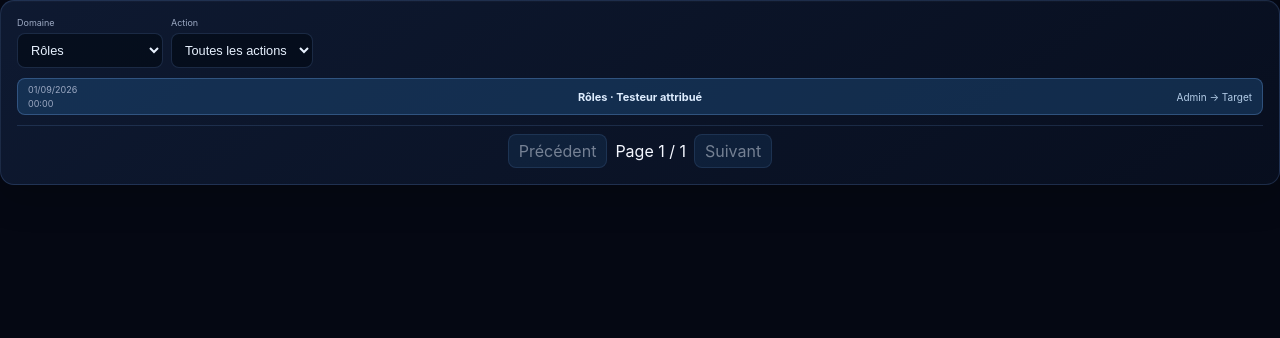
Test: Admin panel actions › filters the Journal and opens a read-only detail
Expected: the element named "Journal Admin" is shown, top-left (0, 0), bottom-right (1279, 185)
Select "Rôles" in the dropdown labelled "Domaine" at (90, 50), box top-left (17, 33), bottom-right (163, 68)
Click the button "01/09/2026 00:00 Rôles · Testeur attribué Admin → Target" at (640, 96), box top-left (17, 78), bottom-right (1263, 115)
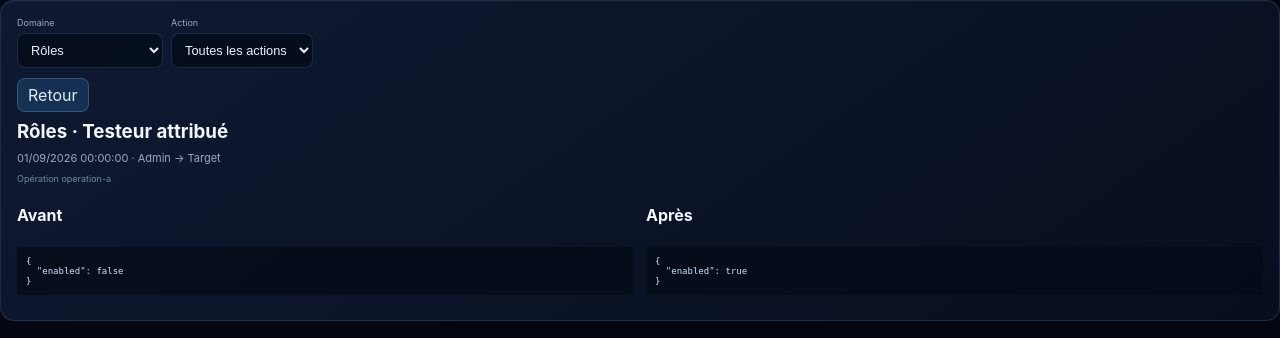
Expected: the heading "Rôles · Testeur attribué" is shown, top-left (17, 120), bottom-right (228, 143)
Result: the text "operation-a" is shown at top-left (62, 173), bottom-right (111, 184)
